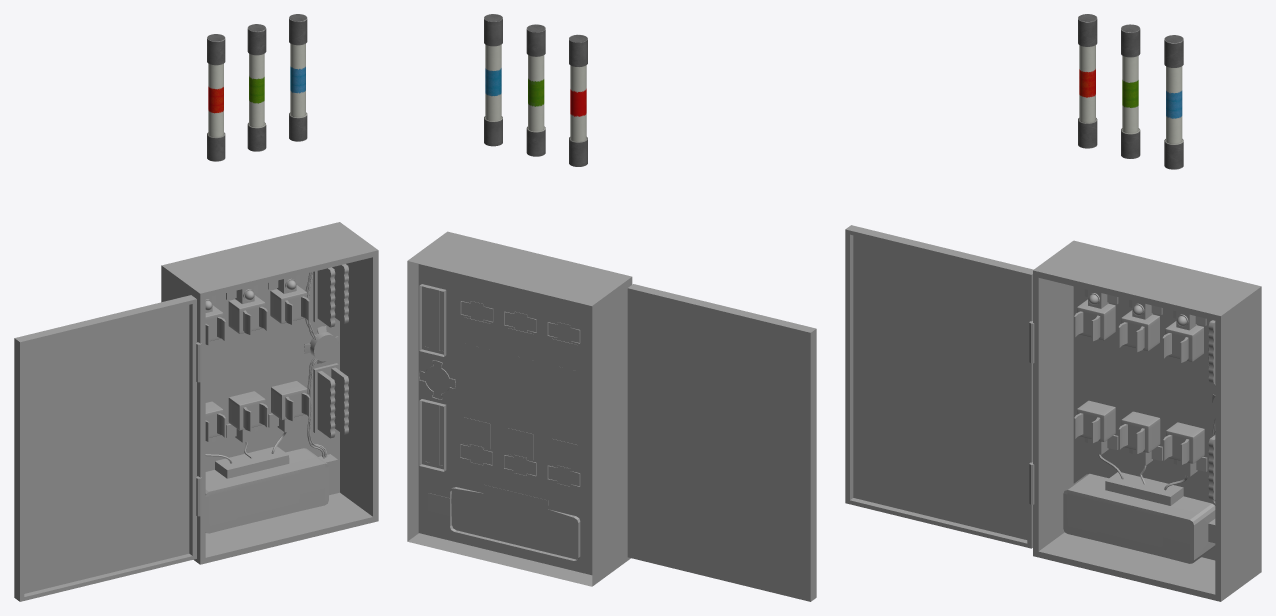
Rendered from obj_FuseBox.fbx.
3 renders of one model, left to right at view 1: azimuth 30°, elevation 25°; view 2: azimuth 150°, elevation 25°; view 3: azimuth 330°, elevation 25°, orthographic. The views are drawn at different scales.
Visible parts, largest first — view 1: polySurface1, Porta, Fusivel_R3, Fusivel_R5, Fusivel_R4; view 2: polySurface1, Porta, Fusivel_R3, Fusivel_R4, Fusivel_R5; view 3: polySurface1, Porta, Fusivel_R5, Fusivel_R3, Fusivel_R4.
Boxes of the visible parts, box(x1,y1,x2,y2) form: polySurface1: box(161, 222, 378, 564); Porta: box(14, 295, 196, 601); Fusivel_R3: box(247, 24, 266, 151); Fusivel_R5: box(289, 14, 307, 141); Fusivel_R4: box(207, 34, 225, 161); polySurface1: box(407, 231, 632, 586); Porta: box(627, 284, 816, 601); Fusivel_R3: box(526, 24, 545, 156); Fusivel_R4: box(569, 34, 587, 166); Fusivel_R5: box(484, 14, 502, 146); polySurface1: box(1029, 240, 1261, 601); Porta: box(845, 225, 1033, 548); Fusivel_R5: box(1164, 35, 1183, 169); Fusivel_R3: box(1121, 24, 1140, 158); Fusivel_R4: box(1078, 14, 1097, 148).
Size of the model in its own units: 90.76 by 123 by 17.49.
